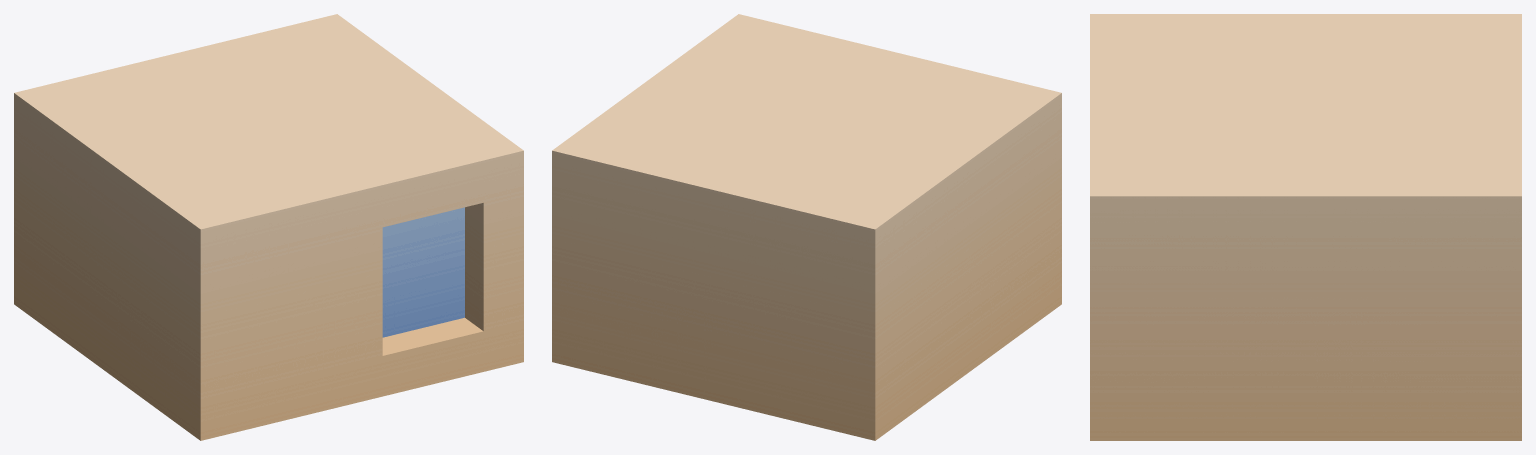
File: building-window-right.glb
3 renders of one model, left to right at view 1: azimuth 30°, elevation 25°; view 2: azimuth 150°, elevation 25°; view 3: azimuth 270°, elevation 25°, orthographic. The views are drawn at different scales.
Parts seen in each view (by area): view 1: building-window-right; view 2: building-window-right; view 3: building-window-right.
Boxes of the visible parts, <box> form: building-window-right: <box>14,14,523,440</box>; building-window-right: <box>552,14,1061,440</box>; building-window-right: <box>1090,14,1521,440</box>.
Size of the model in its own units: 1 by 0.625 by 1.
1 material, 1 textured.
